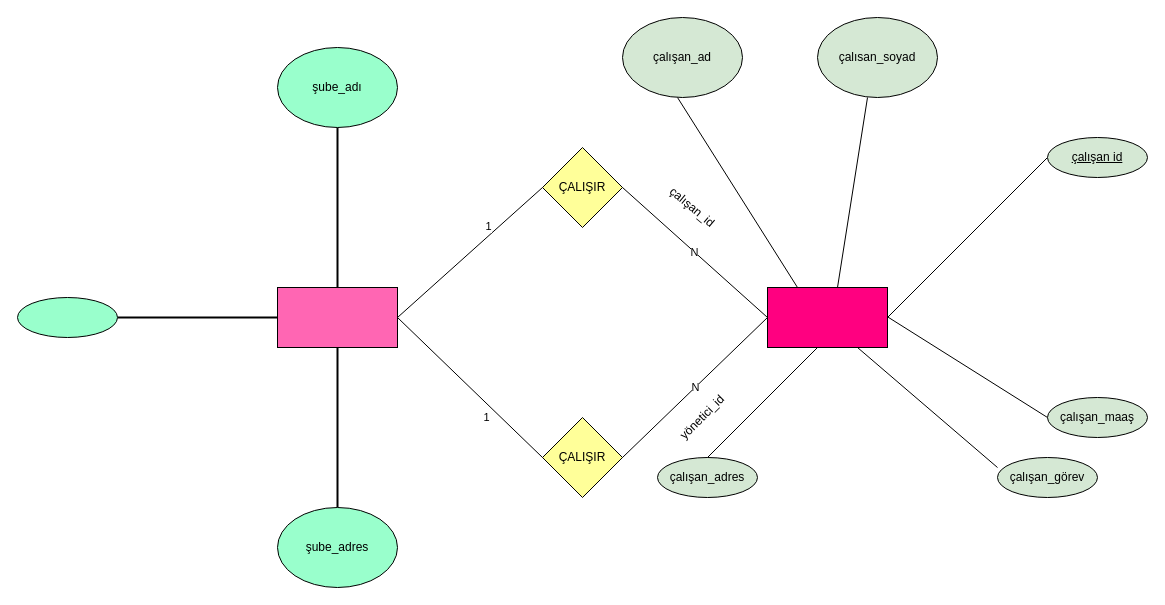
This 1165x605 diagram has some shape labels left out. Each missing label, with the centre of its shape:
"ÇALIŞAN" belongs at [827,317].
"Şube" belongs at [337,317].
"şube id" belongs at [67,317].
